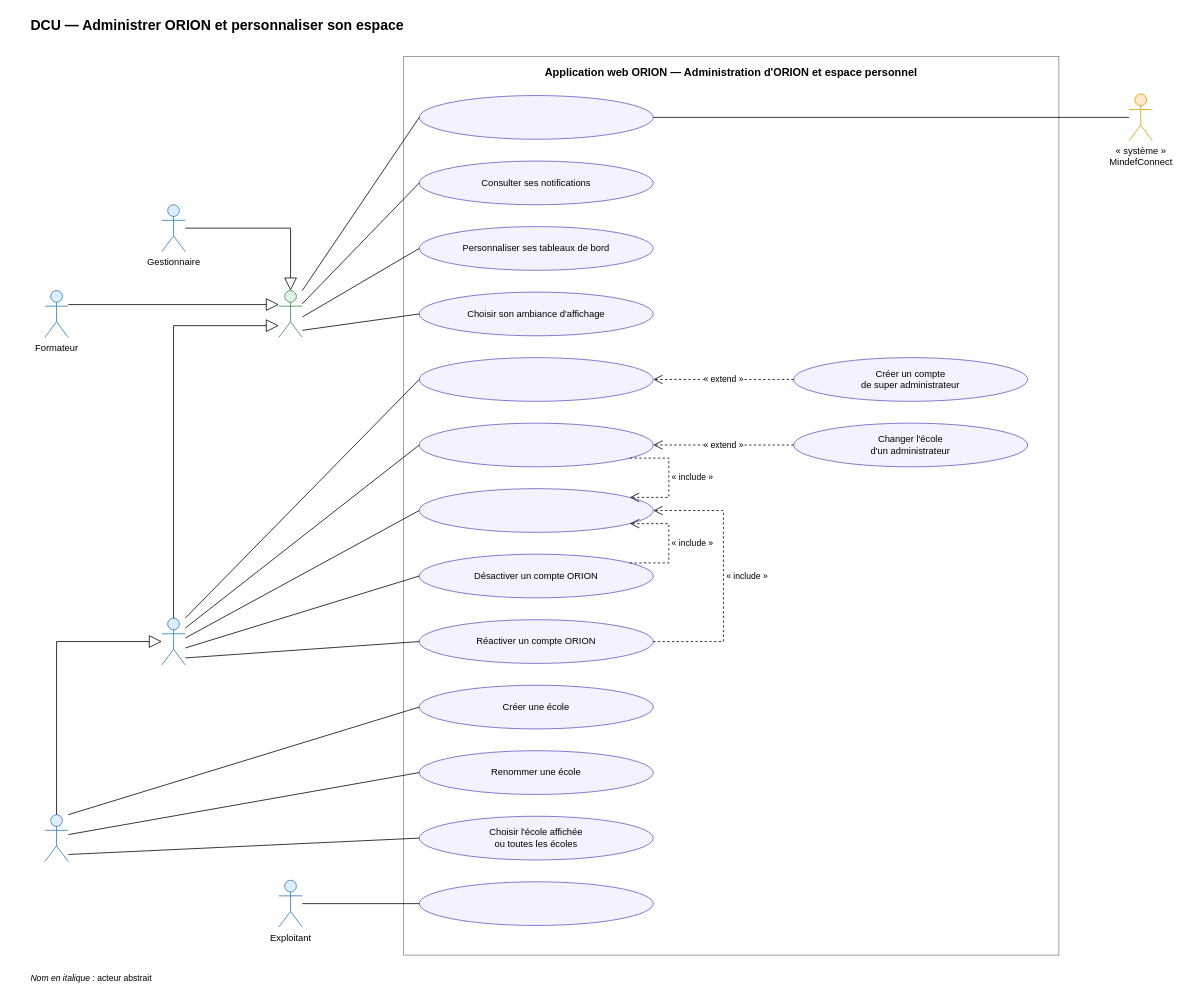
Some shapes in this 1186 by 999 pixel diagram are drawn without their labels. The box of each missing label's shape, as (x1, y1, x2, y2) in pixels:
Administrateur: (161, 617, 185, 665)
Consulter les comptes ORION: (418, 488, 653, 532)
Créer un compte ORION: (418, 357, 653, 401)
Désigner le premier super administrateur d'un espace neuf: (418, 881, 653, 925)
Modifier un compte ORION: (418, 422, 653, 467)
Se connecter par MindefConnect: (418, 95, 653, 139)
Super administrateur: (44, 814, 68, 862)
Utilisateur ORION: (278, 290, 302, 337)
